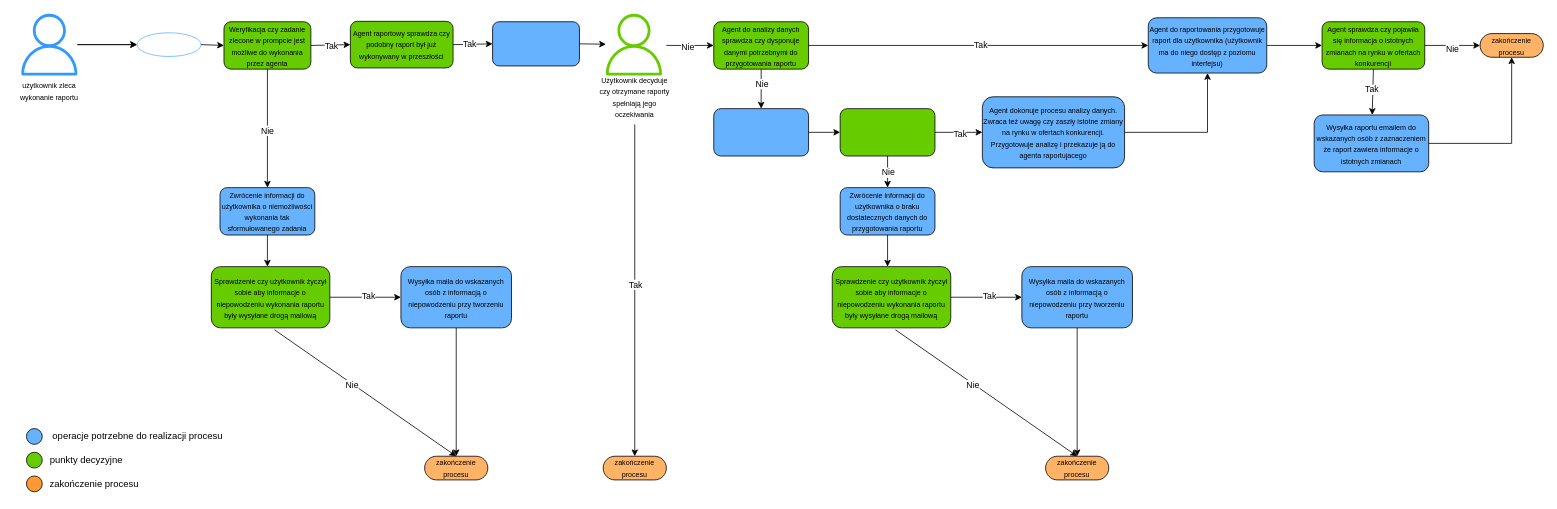
This 1557x509 diagram has some shape labels left out. The shapes that lost their labels are listed below. From the top down, each one's centre as x and y in pixels, then its label:
(168,44): PROMPT
(535,43): Użytkownik otrzymuje listę raportów które mogą spełniać zadane kryteria
(761,132): Agent do zbierania danych podejmuje próbę pobrania potrzebnych danych
(887,132): Agent do analizy danych sprawdza czy udało się pobrać wszystkie potrzebne dane
